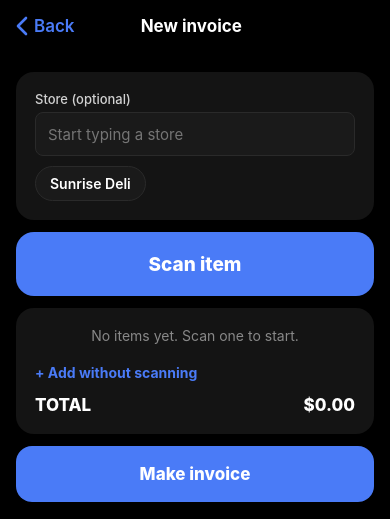
Scenario: EasyInvoice › recent stores are one tap
This screenshot has width=390, height=519.
Click the button "Sunrise Deli" at (90, 184), box [35,166,146,201]
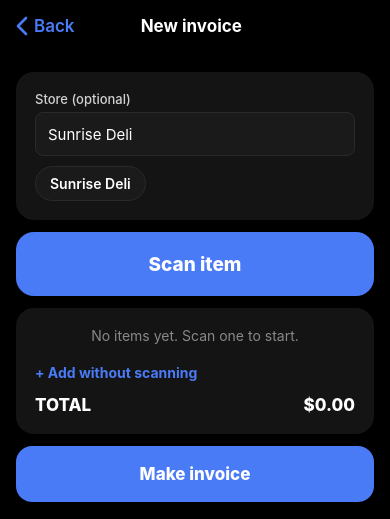
Expected: the field with placeholder "Start typing a store" holds "Sunrise Deli", [35,112,355,156]
